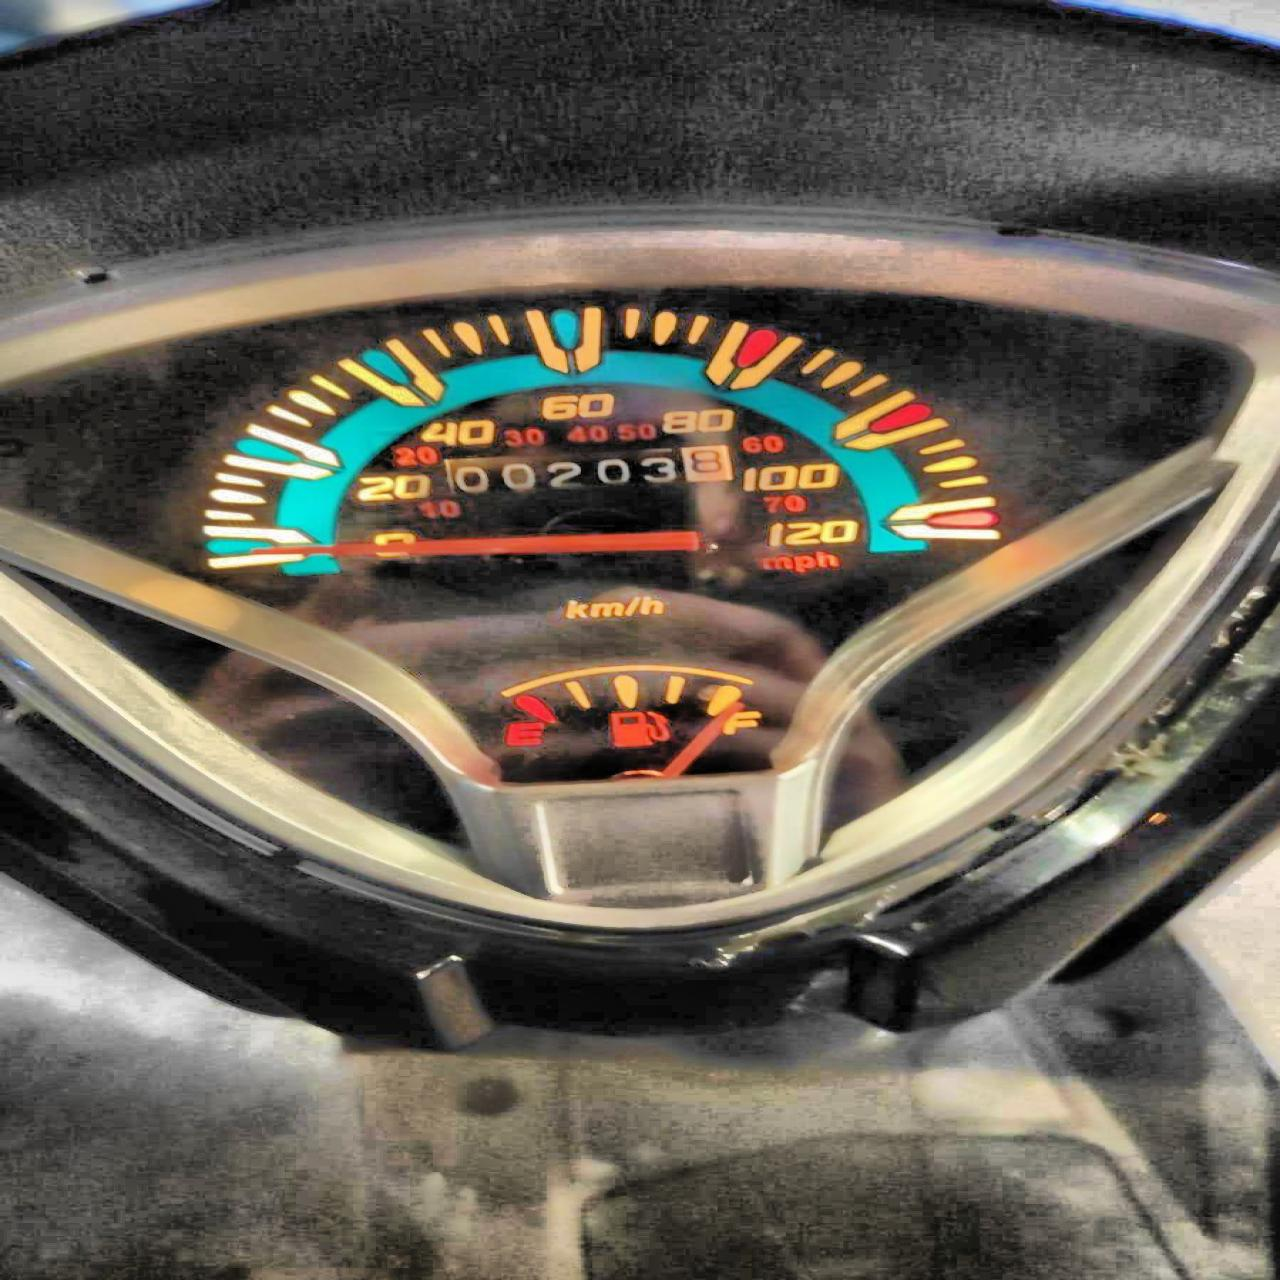0: (591, 457, 633, 484), (452, 464, 490, 491), (498, 463, 536, 489)
2: (546, 462, 585, 489)
3: (641, 457, 676, 483)
8: (688, 449, 729, 477)
odometer: (440, 443, 738, 496)
